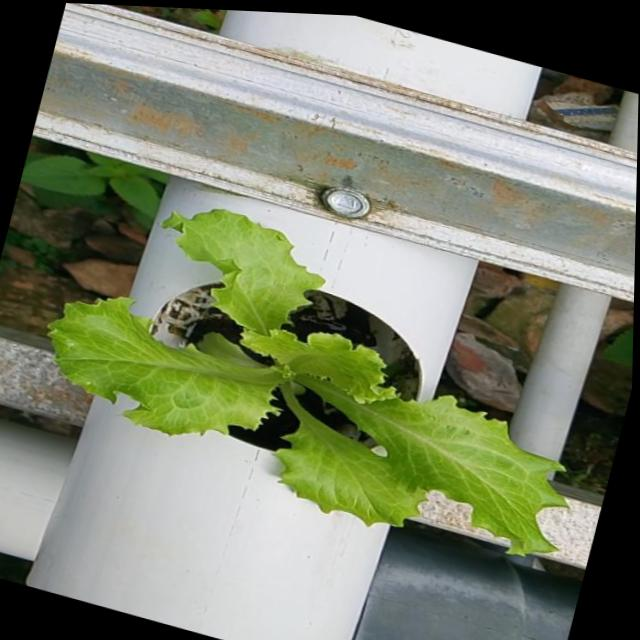Baby: (47, 208, 565, 554)
